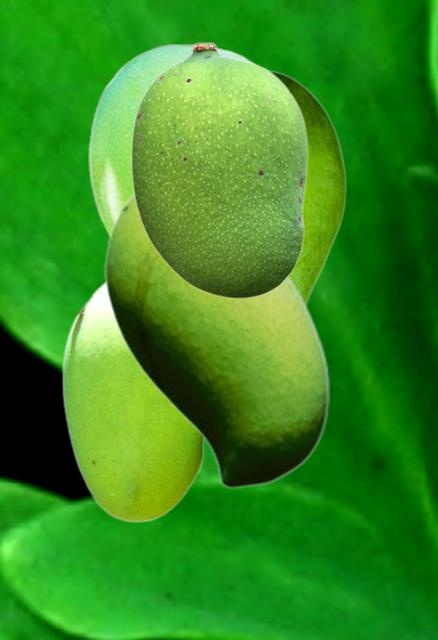green_mango: (103, 192, 328, 488), (130, 41, 307, 298), (61, 282, 206, 521), (87, 43, 260, 239), (270, 69, 346, 304)
